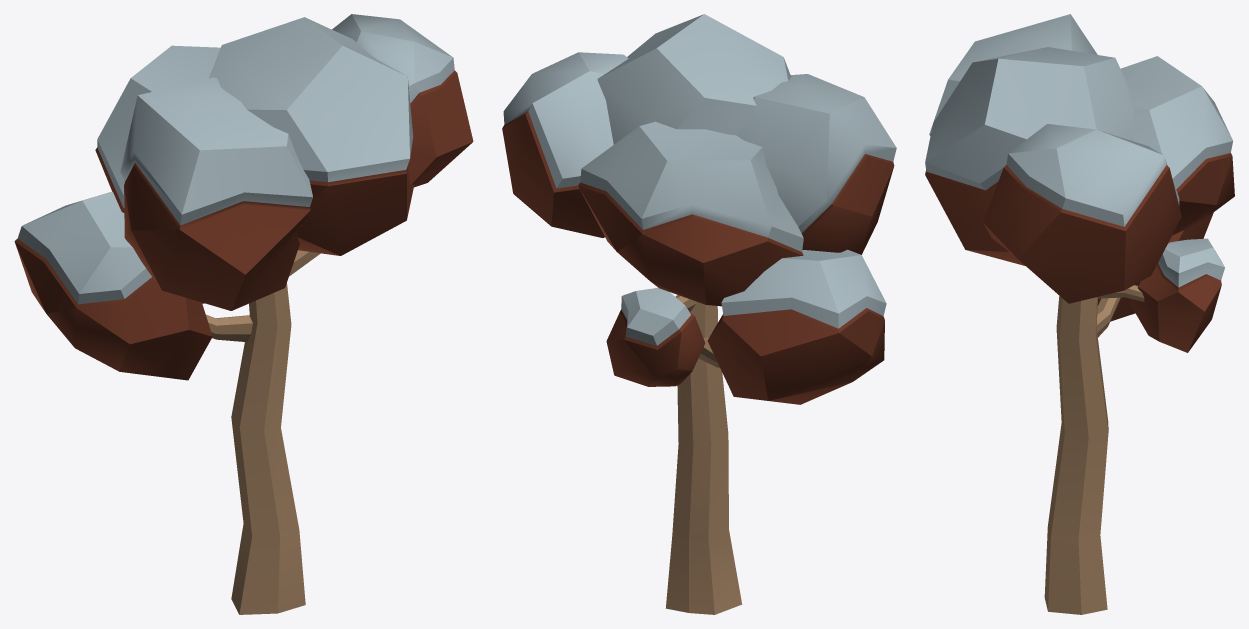
File: Geo_TreeOrange.fbx
The picture shows the model from 3 angles, left to right: view 1: azimuth 30°, elevation 25°; view 2: azimuth 150°, elevation 25°; view 3: azimuth 270°, elevation 25°; orthographic projection. The views are drawn at different scales.
Parts seen in each view (by area): view 1: AutumnTreeGreen_Mesh1; view 2: AutumnTreeGreen_Mesh1; view 3: AutumnTreeGreen_Mesh1.
Boxes of the visible parts, left/top/right/bottom form: AutumnTreeGreen_Mesh1: left=14, top=14, right=473, bottom=614; AutumnTreeGreen_Mesh1: left=502, top=14, right=896, bottom=614; AutumnTreeGreen_Mesh1: left=925, top=14, right=1234, bottom=614.
Size of the model in its own units: 400 by 575 by 289.
